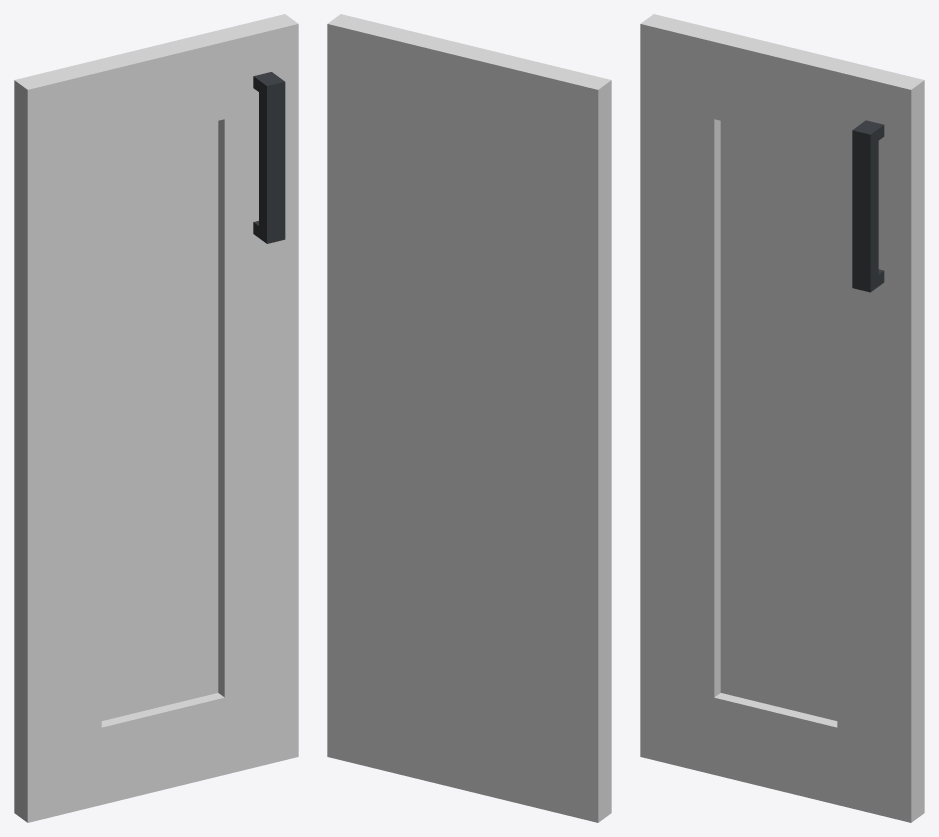
File: Door2_C1_04.fbx
3 renders of one model, left to right at view 1: azimuth 30°, elevation 25°; view 2: azimuth 150°, elevation 25°; view 3: azimuth 330°, elevation 25°, orthographic.
Visible parts, largest first — view 1: Door2_C1_04; view 2: Door2_C1_04; view 3: Door2_C1_04.
Part boxes in pixels (x1,y1,x2,y2): Door2_C1_04: [14, 14, 298, 822]; Door2_C1_04: [327, 14, 611, 822]; Door2_C1_04: [640, 14, 924, 822].
Bounding box in the file's own units: 29 × 75 × 5.03.
